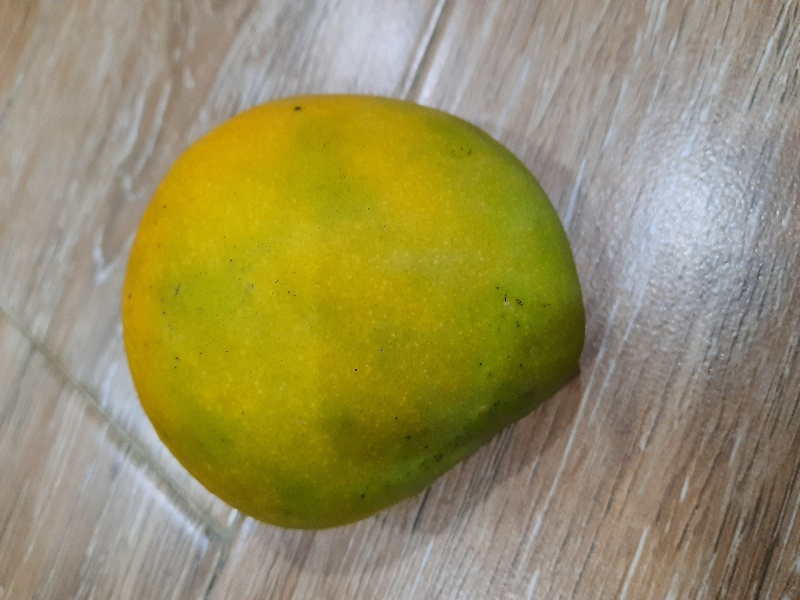fruit: (117, 82, 587, 552)
